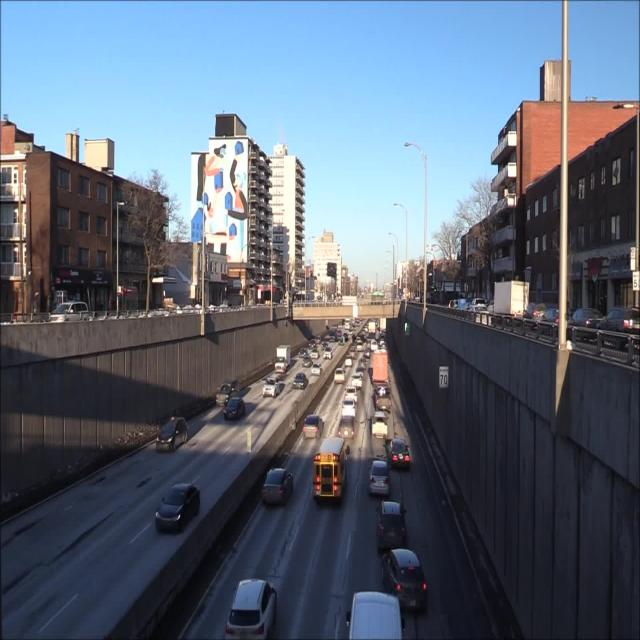Car: (380, 538, 434, 619), (226, 570, 282, 640), (154, 474, 206, 538), (344, 585, 404, 640), (373, 496, 413, 548), (259, 459, 292, 521), (155, 403, 191, 457), (366, 454, 392, 504), (224, 385, 253, 425), (369, 404, 388, 461), (387, 439, 416, 476), (370, 376, 392, 416), (301, 405, 321, 445), (261, 370, 283, 406), (336, 413, 357, 447), (290, 363, 308, 395), (337, 397, 357, 422), (331, 360, 346, 392), (308, 357, 323, 384), (350, 368, 361, 393), (344, 385, 356, 405)
Truck: (270, 336, 293, 378), (370, 345, 390, 386)
